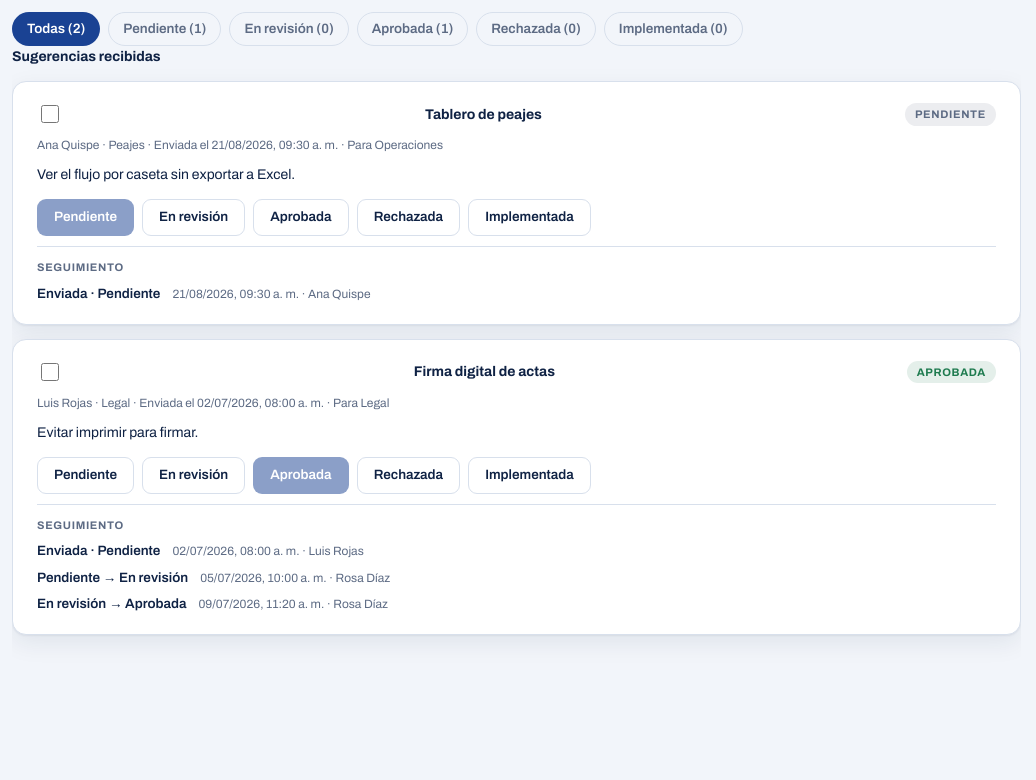
los filtros por estado › deja ver sólo las de un estado
Click the button "Aprobada (1)".
click(412, 29)  # box x1=357 y1=12 x2=468 y2=46
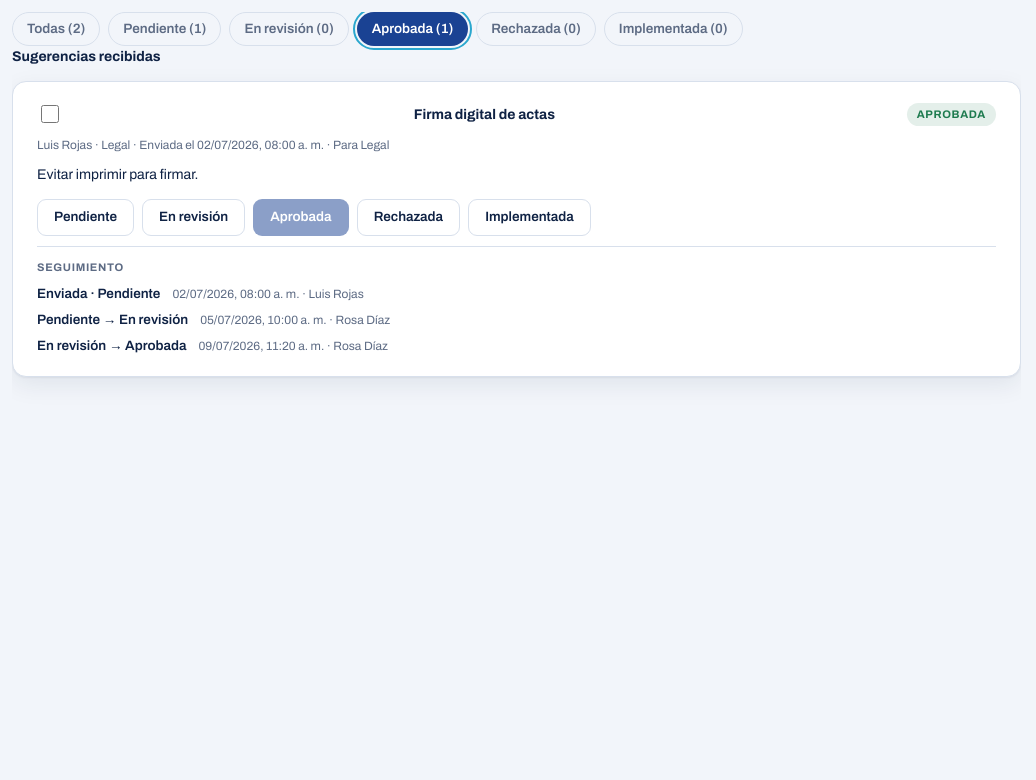
Expected: the heading "Firma digital de actas" is shown, x1=414 y1=104 x2=555 y2=125
Now the heading "Tablero de peajes" is gone
